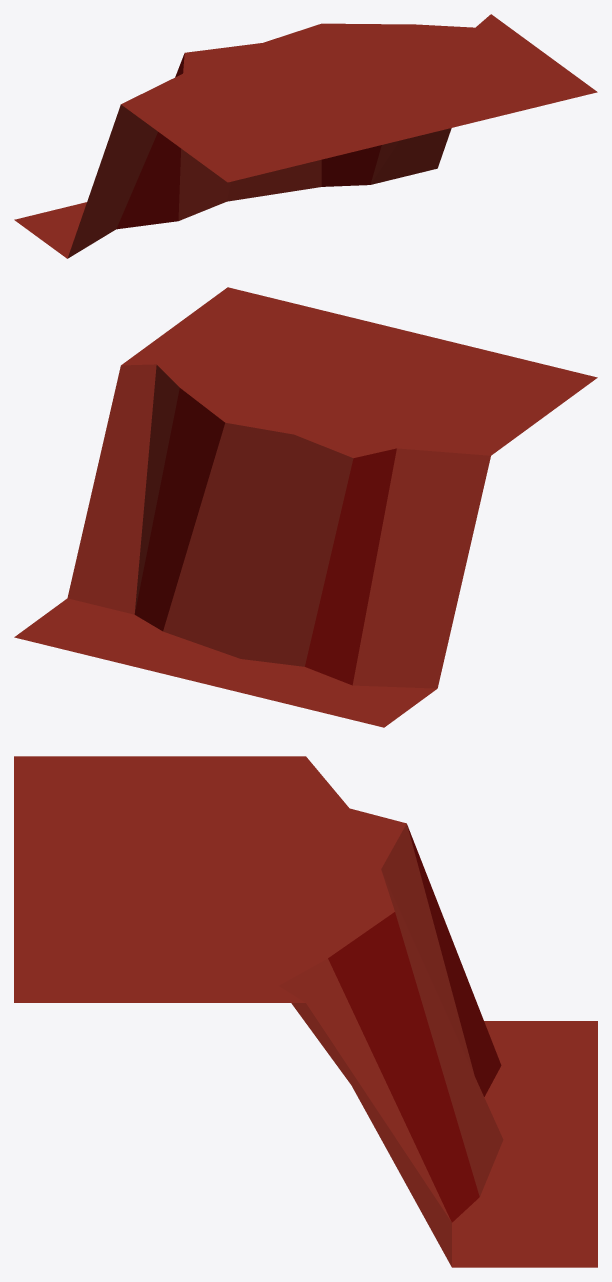
Rendered from Border_2.fbx.
The picture shows the model from 3 angles, top to bottom: view 1: azimuth 30°, elevation 25°; view 2: azimuth 150°, elevation 25°; view 3: azimuth 270°, elevation 25°; orthographic projection. The views are drawn at different scales.
Parts seen in each view (by area): view 1: Plane.039; view 2: Plane.039; view 3: Plane.039.
Part boxes in pixels (x1=…): Plane.039: x1=14, y1=14, x2=597, y2=258; Plane.039: x1=14, y1=287, x2=597, y2=727; Plane.039: x1=14, y1=756, x2=597, y2=1267.
Bounding box in the file's own units: 200 × 100 × 200.
